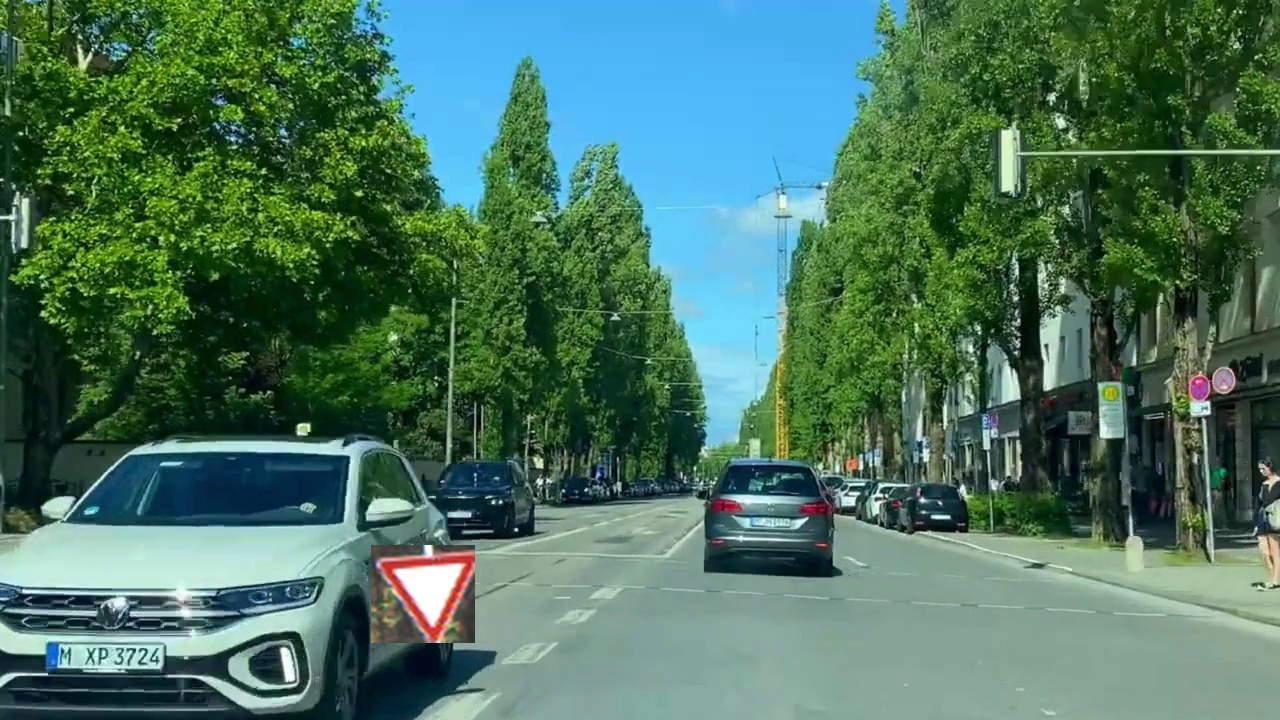Yield: (371, 545, 475, 643)
